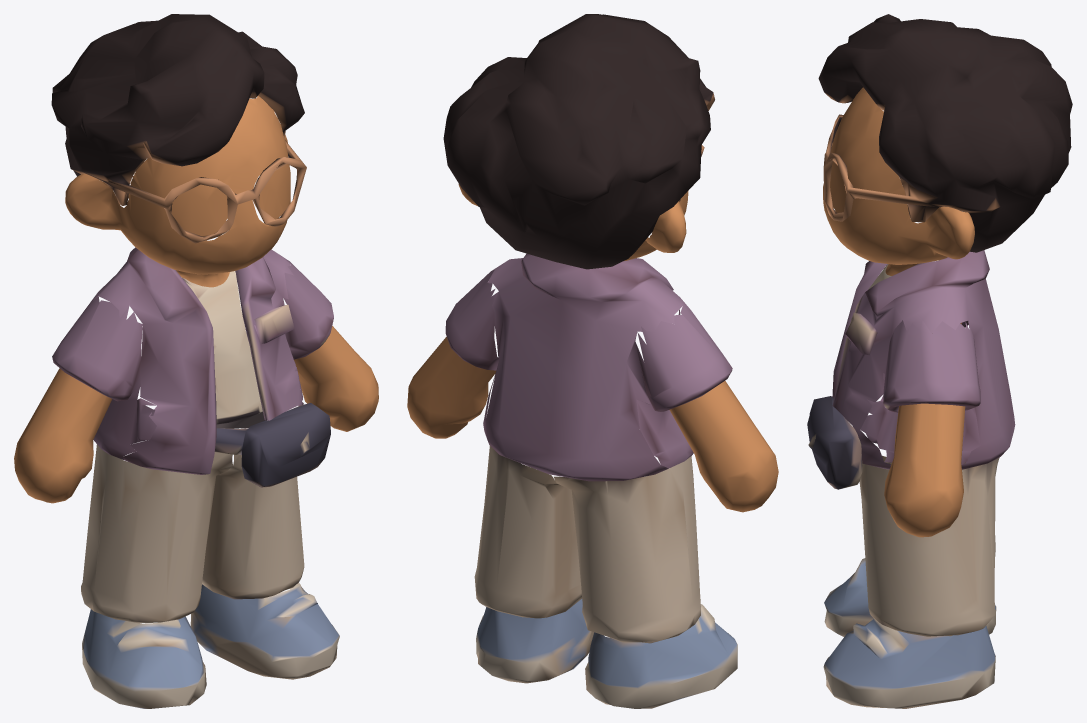
3 views of the same model, side by side, from view 1: azimuth 30°, elevation 25°; view 2: azimuth 150°, elevation 25°; view 3: azimuth 270°, elevation 25° (orthographic). The views are drawn at different scales.
Visible parts, largest first — view 1: top, hair, bottom, head, shoe_l, shoe_r, sleeve_r, hand_r, hand_l, sleeve_l; view 2: hair, top, bottom, shoe_r, sleeve_r, hand_r, shoe_l, hand_l, sleeve_l, head; view 3: hair, top, bottom, head, shoe_l, sleeve_l, hand_l, shoe_r.
Boxes of the visible parts, left/top/right/bottom form: top: left=93, top=247, right=330, bottom=487; hair: left=51, top=14, right=306, bottom=243; bottom: left=81, top=444, right=304, bottom=623; head: left=65, top=96, right=290, bottom=287; shoe_l: left=190, top=582, right=339, bottom=679; shoe_r: left=82, top=609, right=206, bottom=708; sleeve_r: left=52, top=294, right=156, bottom=459; hand_r: left=14, top=368, right=112, bottom=503; hand_l: left=294, top=326, right=378, bottom=431; sleeve_l: left=283, top=259, right=333, bottom=401; hair: left=443, top=14, right=714, bottom=269; top: left=483, top=253, right=687, bottom=481; bottom: left=474, top=445, right=700, bottom=643; shoe_r: left=585, top=604, right=737, bottom=708; sleeve_r: left=635, top=305, right=732, bottom=468; hand_r: left=669, top=381, right=778, bottom=512; shoe_l: left=476, top=599, right=593, bottom=683; hand_l: left=407, top=337, right=495, bottom=438; sleeve_l: left=445, top=270, right=498, bottom=418; head: left=458, top=184, right=688, bottom=261; hair: left=818, top=14, right=1072, bottom=252; top: left=807, top=250, right=1015, bottom=489; bottom: left=858, top=438, right=999, bottom=636; head: left=823, top=87, right=974, bottom=275; shoe_l: left=823, top=618, right=995, bottom=708; sleeve_l: left=860, top=320, right=980, bottom=465; hand_l: left=884, top=403, right=965, bottom=537; shoe_r: left=824, top=558, right=996, bottom=636.
Bounding box in the file's own units: 0.5972 × 1.03 × 0.391.
